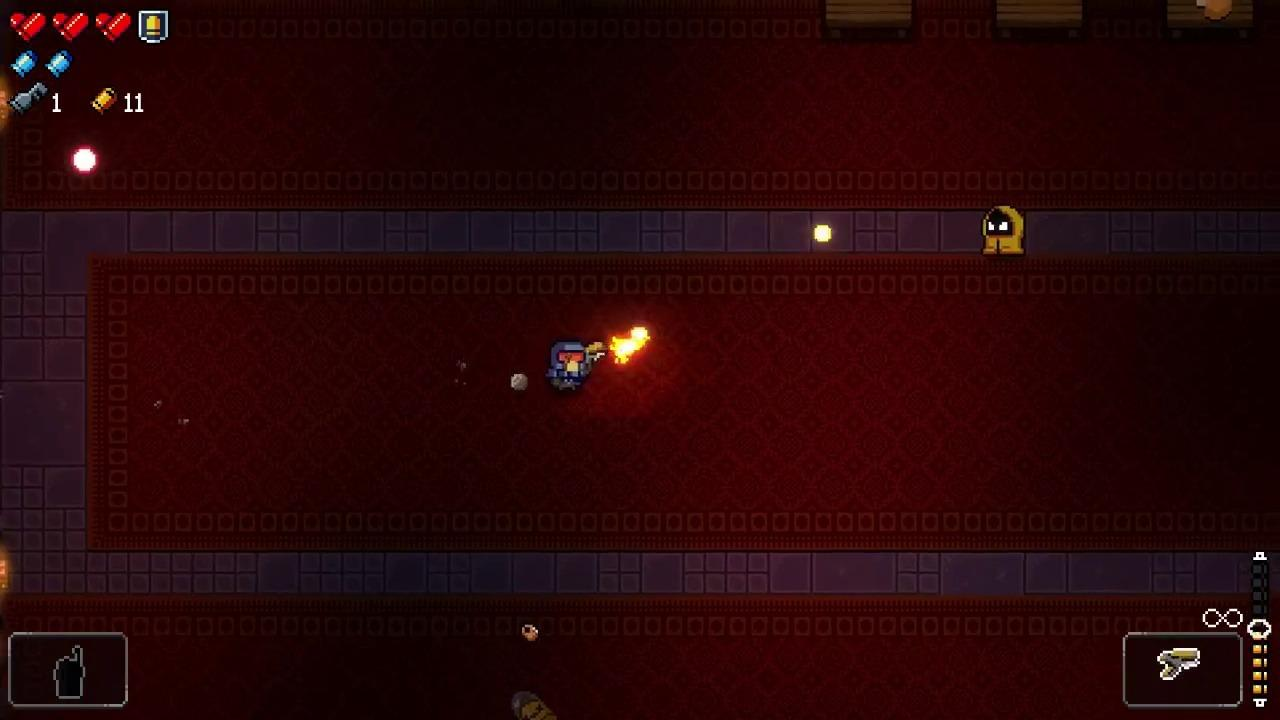apprentice_gunjurer: (980, 205, 1026, 254)
player: (549, 344, 593, 395)
